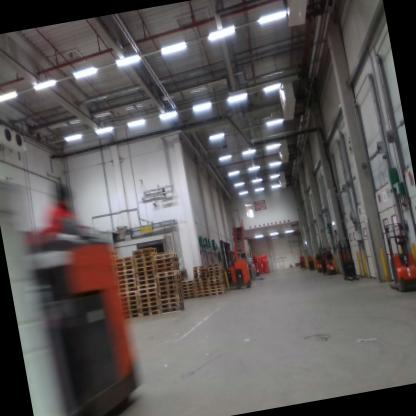pallet: (131, 244, 157, 257), (153, 256, 180, 268), (153, 249, 180, 261), (158, 282, 182, 295), (155, 264, 180, 275), (159, 305, 186, 315), (157, 287, 184, 297), (132, 250, 158, 260), (157, 291, 183, 301), (156, 274, 182, 284), (159, 299, 184, 309), (158, 295, 183, 305), (155, 269, 181, 278), (157, 278, 182, 287), (138, 303, 160, 313), (139, 309, 160, 319), (154, 261, 180, 269), (120, 306, 139, 316), (114, 254, 134, 263), (114, 258, 134, 267), (115, 267, 135, 276), (119, 294, 139, 303), (133, 259, 155, 267), (136, 295, 158, 303), (121, 312, 140, 321), (133, 255, 154, 263), (135, 273, 156, 281), (136, 277, 157, 285), (137, 287, 158, 295), (118, 289, 139, 297), (206, 260, 224, 269), (134, 264, 154, 272), (137, 282, 157, 290), (137, 291, 157, 299), (137, 300, 159, 307), (117, 281, 136, 289), (206, 263, 224, 271), (135, 269, 155, 276), (115, 264, 135, 271), (118, 286, 138, 293), (116, 273, 135, 280), (120, 300, 139, 307), (120, 303, 139, 310), (117, 277, 135, 284), (209, 286, 226, 293), (209, 280, 225, 287), (207, 268, 225, 274), (207, 271, 225, 277), (209, 290, 227, 296), (180, 277, 195, 284), (207, 274, 224, 280), (208, 277, 225, 283), (192, 264, 207, 270), (193, 273, 208, 279), (208, 284, 226, 289), (193, 269, 207, 275), (194, 276, 208, 282), (195, 282, 209, 288), (196, 292, 210, 298), (183, 294, 197, 300), (182, 291, 196, 297), (181, 282, 195, 288), (194, 280, 209, 285), (195, 289, 210, 294), (193, 267, 207, 272), (195, 286, 209, 291), (182, 285, 196, 290), (110, 247, 118, 255), (183, 288, 195, 293)
pallet_truck: (3, 172, 139, 416), (371, 209, 416, 304), (229, 247, 309, 291), (335, 231, 364, 286), (317, 241, 336, 278), (310, 246, 328, 276), (241, 257, 259, 287), (305, 253, 316, 274)
